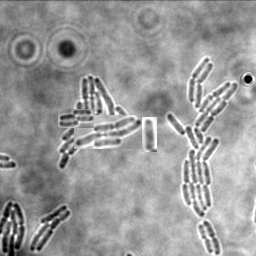Dividing: (204, 219, 222, 255), (142, 117, 157, 152), (199, 223, 215, 253)
Microcolony: (167, 57, 238, 216), (59, 75, 136, 169), (74, 115, 142, 149), (30, 204, 72, 251), (1, 200, 26, 255), (58, 109, 94, 128)
